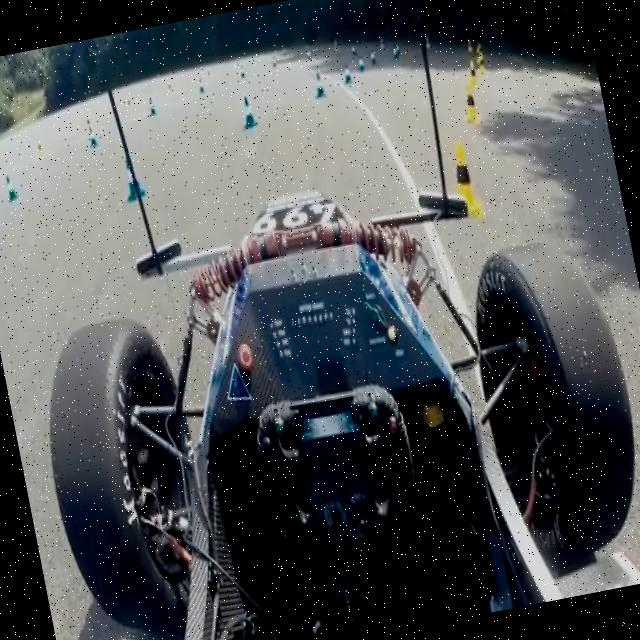blue_cone: (119, 152, 148, 205), (311, 70, 329, 102), (4, 174, 21, 204)
yellow_cone: (442, 136, 486, 223), (458, 84, 482, 125)
